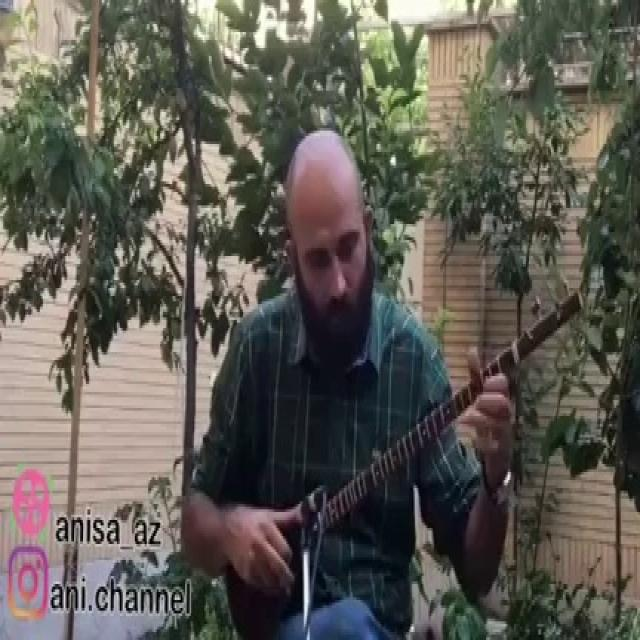Setar: (218, 278, 592, 640)
